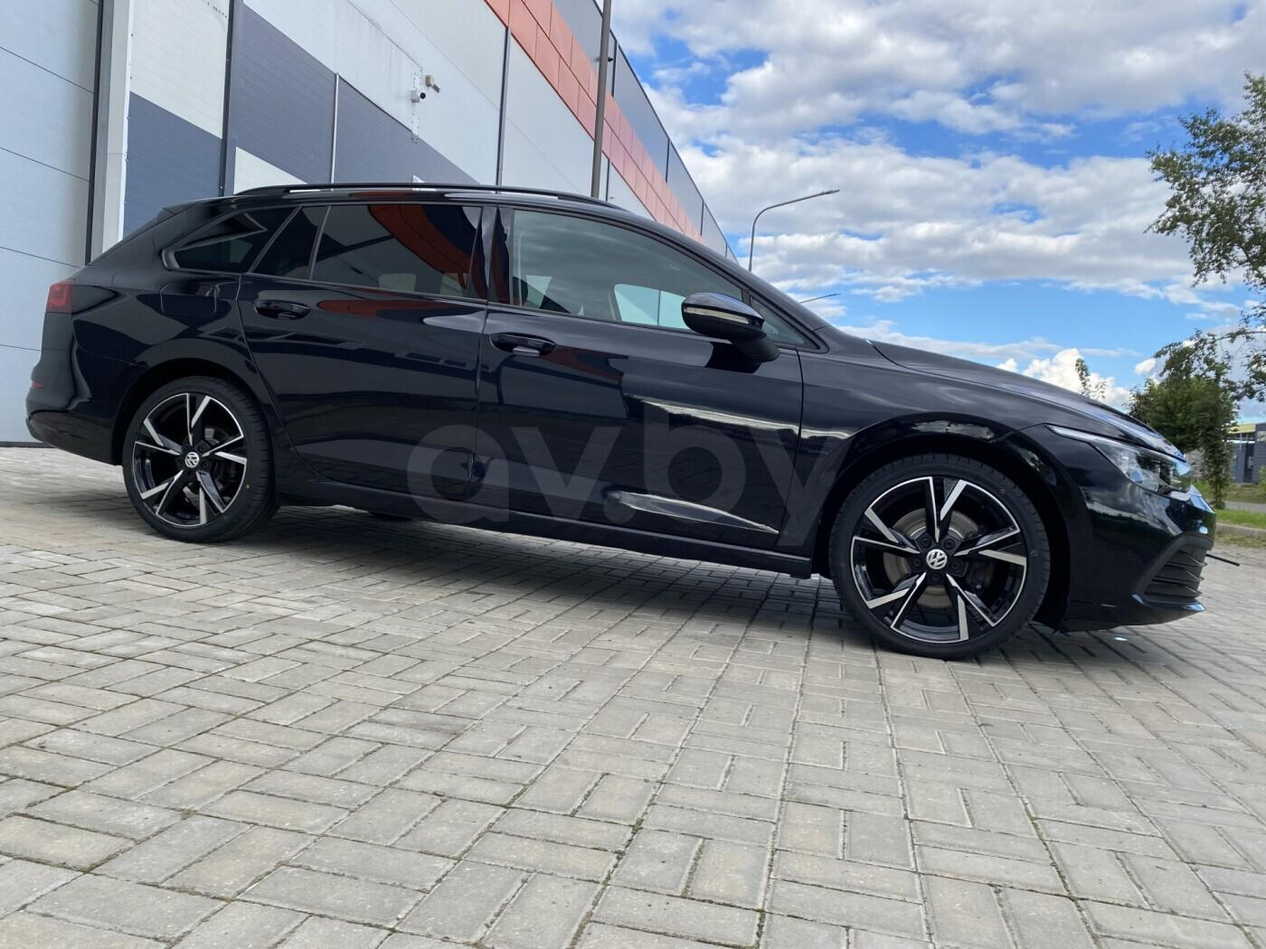Golf_2019: (27, 177, 1218, 653)
